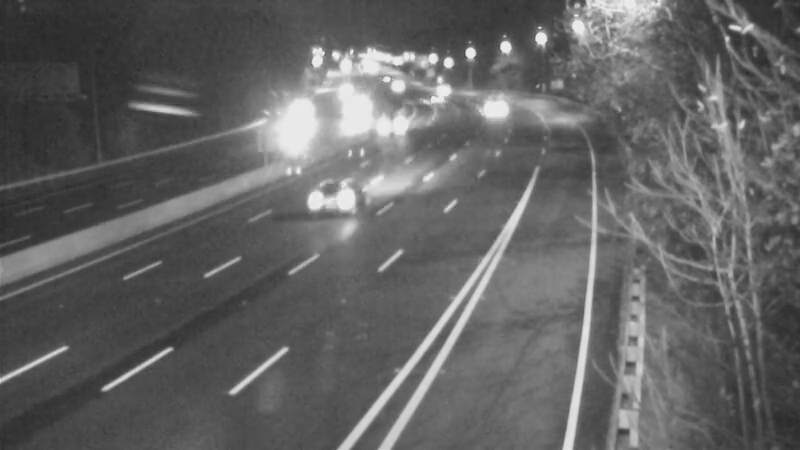vehicle: (292, 164, 372, 244), (369, 59, 419, 109), (418, 63, 468, 113), (412, 75, 462, 125), (471, 85, 521, 135), (377, 97, 427, 147), (265, 114, 315, 164)
